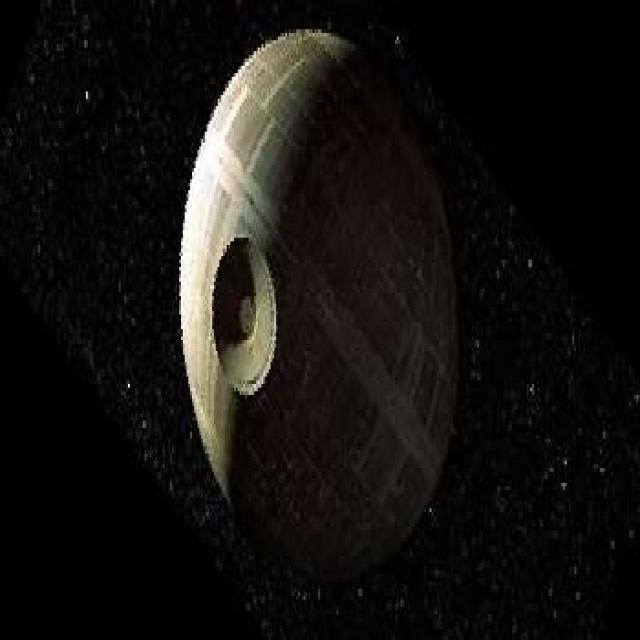Death Star: (174, 22, 462, 585)
